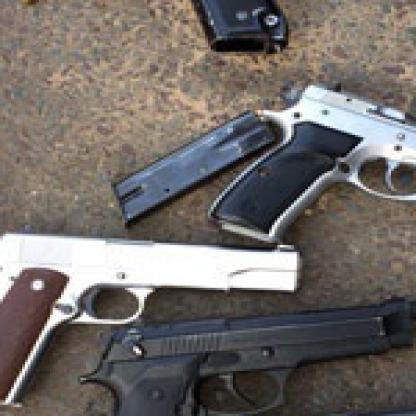gun: (0, 227, 305, 405), (75, 290, 413, 414), (197, 72, 413, 250), (0, 0, 344, 63)
